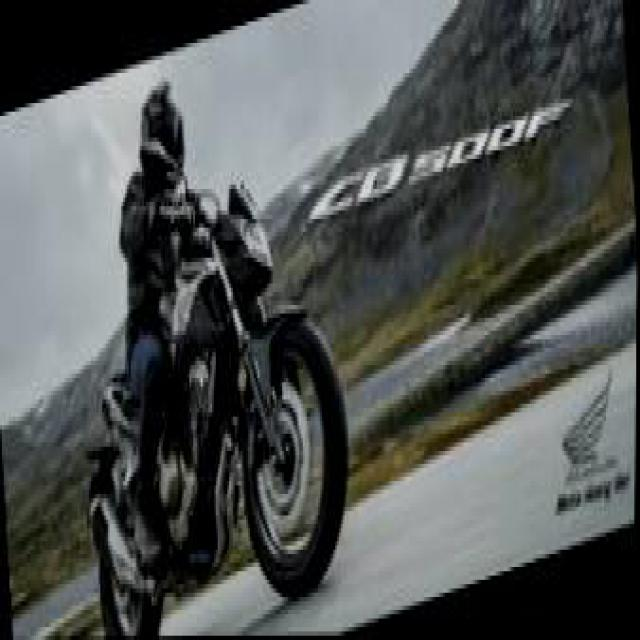CB500F: (67, 142, 359, 636)
